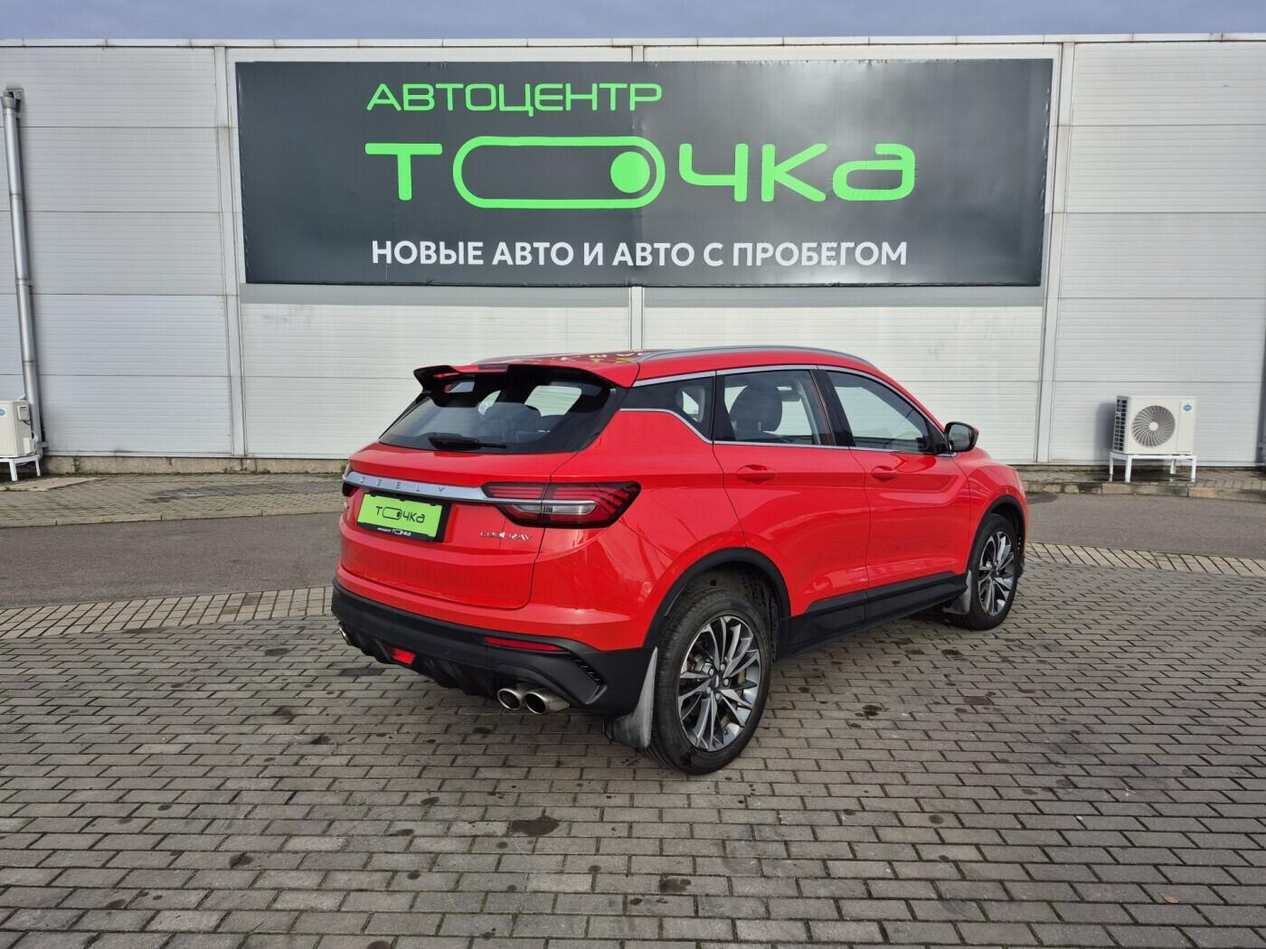Coolray_2019-2023: (327, 342, 1044, 775)
